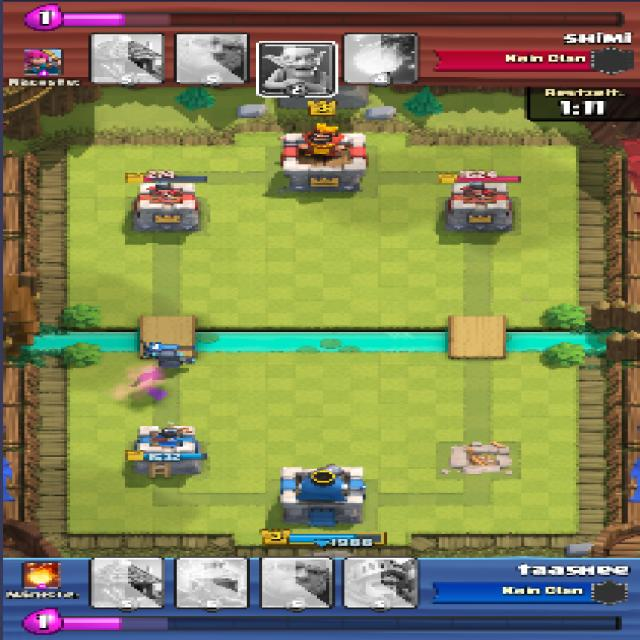Player-MiniPEKKA: (138, 342, 197, 367)
